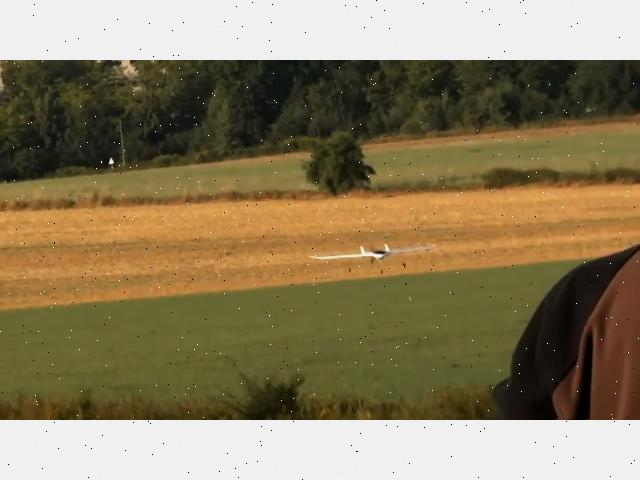Anti-Drone: (310, 245, 434, 261)
